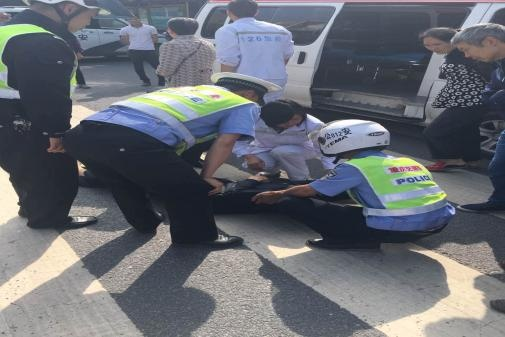falling: (169, 159, 334, 221)
